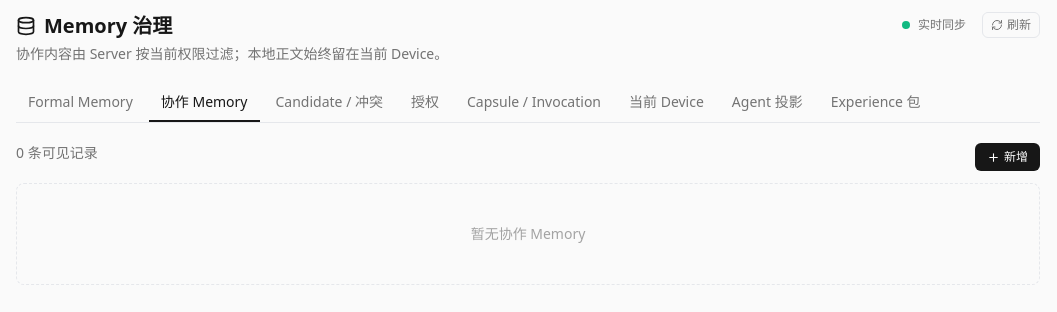
it: Agent Memory Projection consumption (issue #718 AC#6b) › shows empty state when no team opted-in projection
Click the button "Agent 投影".
click(767, 103)  # box [720,84,815,122]
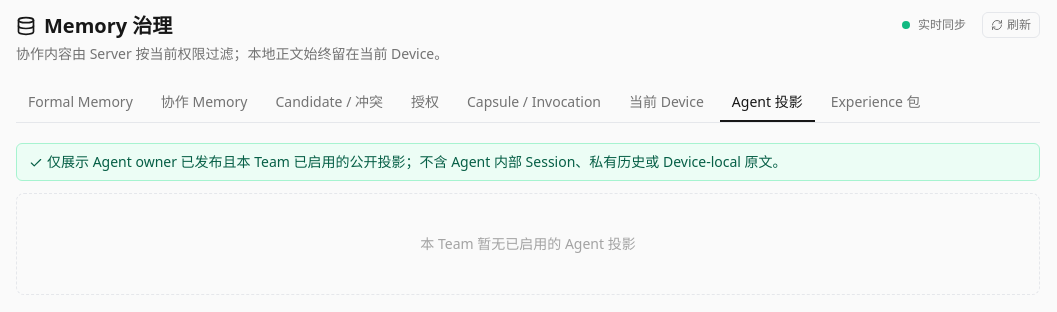
Check: the text "本 Team 暂无已启用的 Agent 投影" is shown, box [16,193,1040,295]
